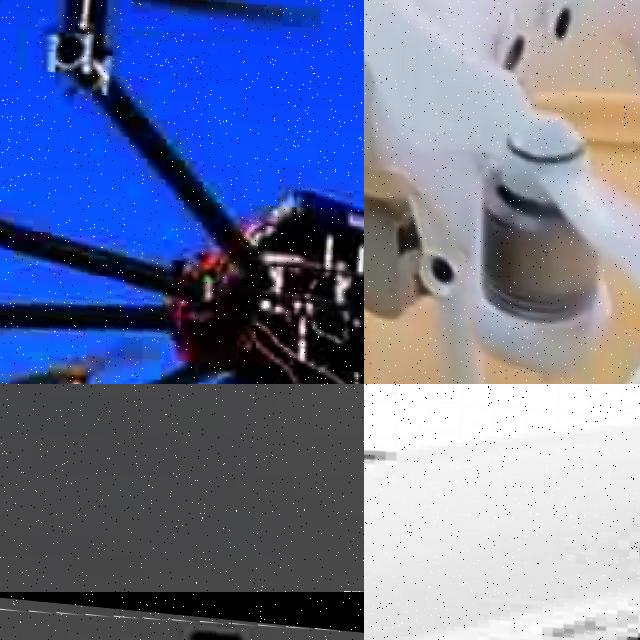drone: (0, 0, 364, 384), (364, 0, 640, 384), (364, 384, 640, 640), (0, 592, 364, 640)
